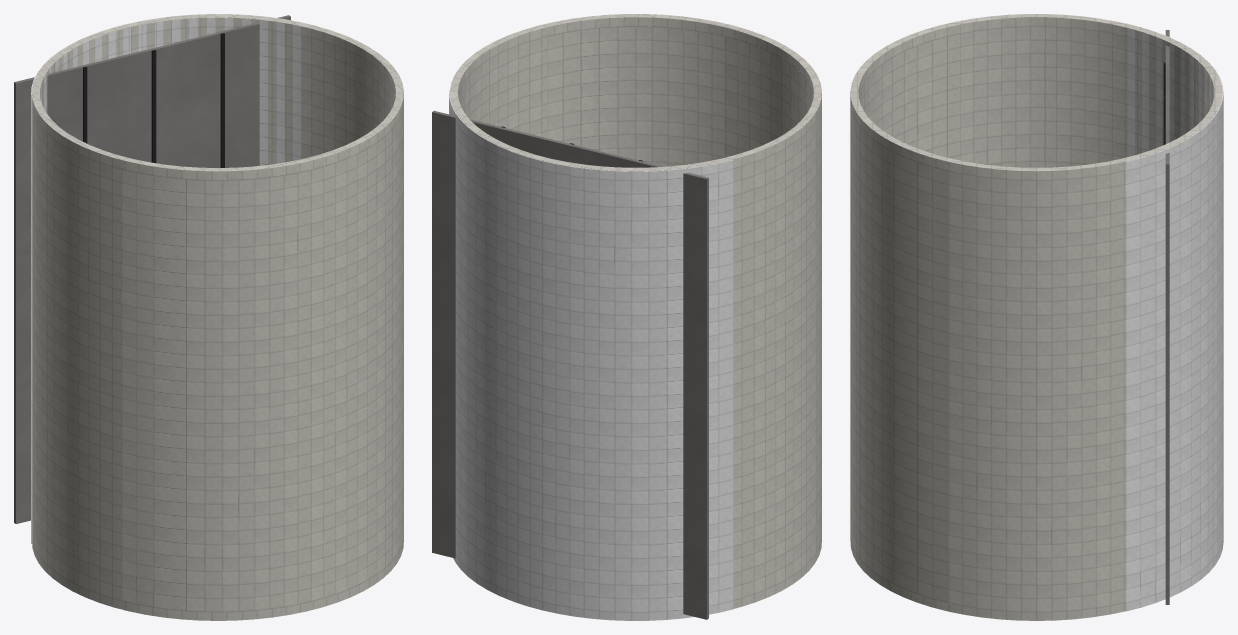
Rendered from aero03_cargo_bay_mk3_500.glb.
3 views of the same model, side by side, from view 1: azimuth 30°, elevation 25°; view 2: azimuth 150°, elevation 25°; view 3: azimuth 270°, elevation 25° (orthographic).
Parts seen in each view (by area): view 1: door_l, fuselage, door_r, cargo_floor, belly_tiles, floor_rails; view 2: belly_tiles, fuselage, cargo_floor, door_r, door_l; view 3: fuselage, belly_tiles, door_r, door_l, cargo_floor.
Part boxes in pixels (x1,y1,x2,y2): door_l: (121, 169, 310, 611); fuselage: (32, 14, 403, 620); door_r: (311, 102, 403, 601); cargo_floor: (14, 15, 290, 523); belly_tiles: (31, 14, 315, 543); floor_rails: (83, 33, 224, 167); belly_tiles: (449, 90, 733, 620); fuselage: (450, 14, 821, 608); cargo_floor: (432, 110, 708, 619); door_r: (547, 26, 724, 166); door_l: (725, 36, 813, 157); fuselage: (850, 14, 1222, 620); belly_tiles: (1126, 23, 1223, 611); door_r: (850, 102, 947, 602); door_l: (858, 36, 947, 157); cargo_floor: (1165, 30, 1169, 604).
Size of the model in its own units: 3.75 by 5 by 3.76.
4 materials, 3 textured.
